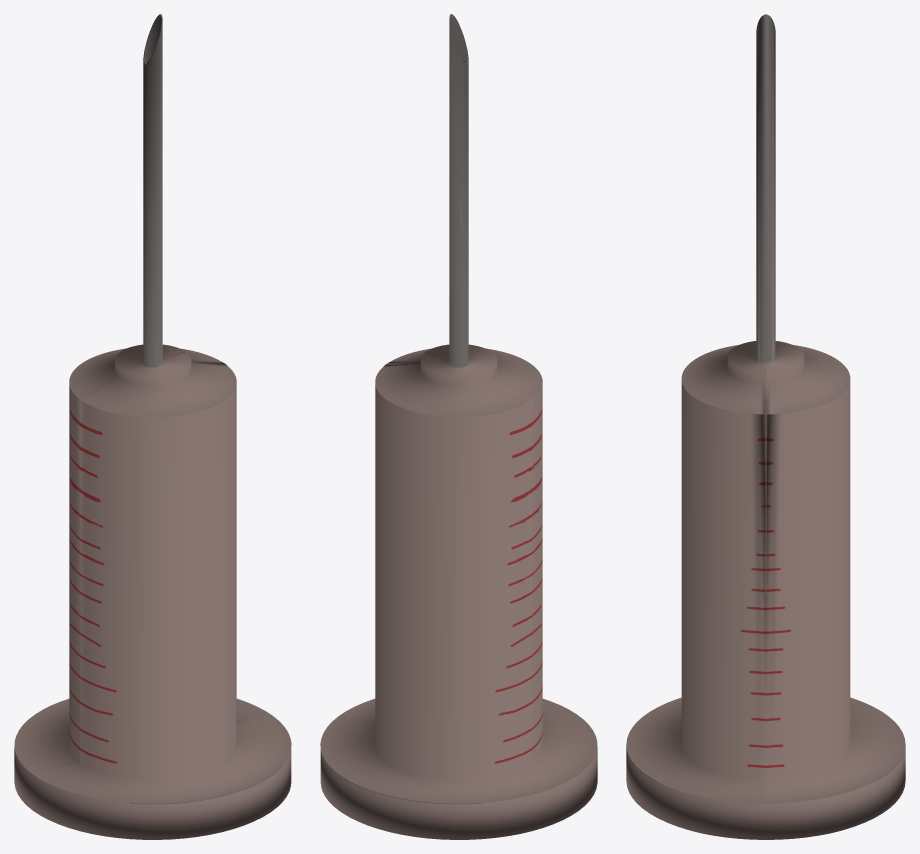
File: injecture.gltf
3 views of the same model, side by side, from view 1: azimuth 30°, elevation 25°; view 2: azimuth 150°, elevation 25°; view 3: azimuth 270°, elevation 25° (orthographic).
Parts seen in each view (by area): view 1: Cylinder; view 2: Cylinder; view 3: Cylinder.
Part boxes in pixels (x1,y1,x2,y2): Cylinder: (14, 14, 291, 839); Cylinder: (320, 14, 597, 839); Cylinder: (626, 14, 905, 839).
Size of the model in its own units: 2 by 6.1 by 2.
Materials: 1 (1 with a texture image).
